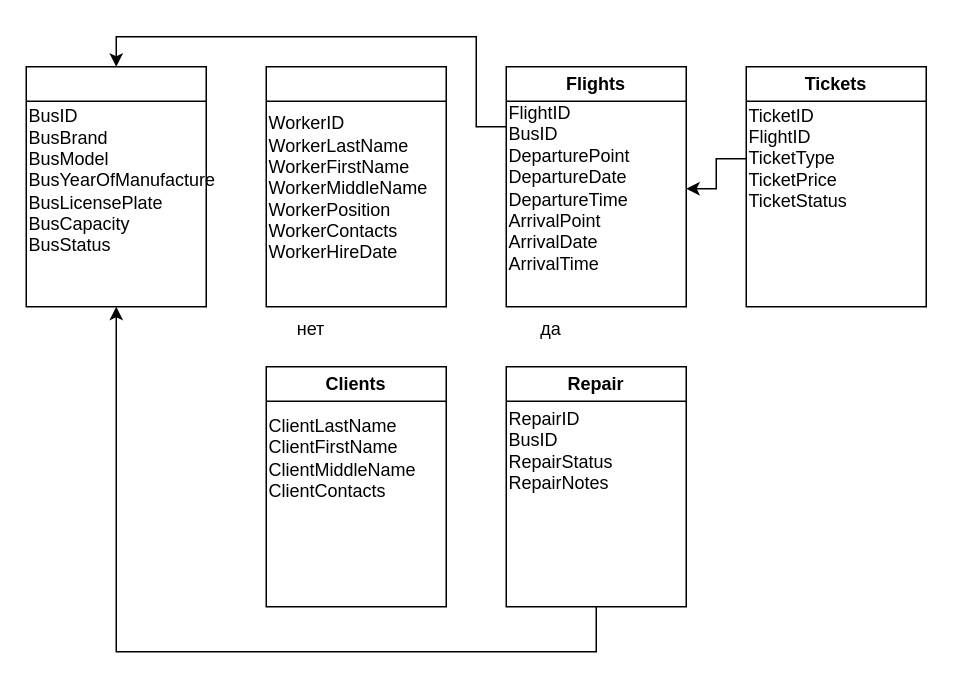
This 953x690 diagram has some shape labels left out. Each missing label, with the box of its shape:
Buses: (25, 65, 206, 307)
Workers: (265, 65, 446, 307)
